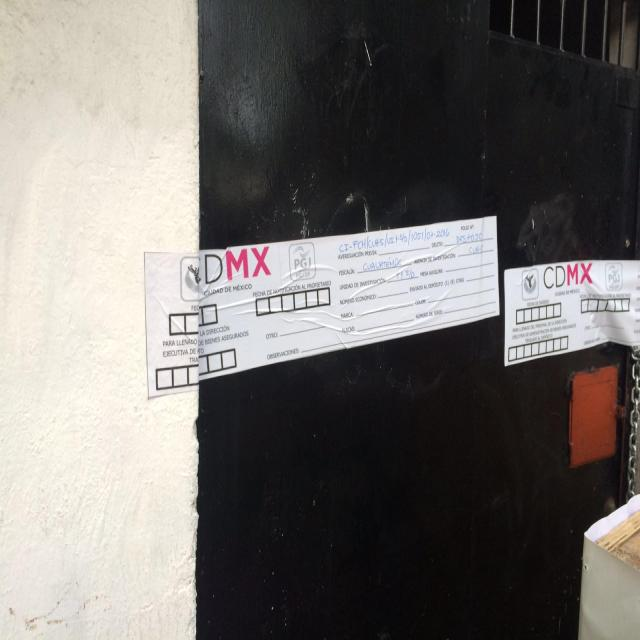stamps: (145, 217, 501, 402), (505, 263, 638, 368), (604, 263, 625, 294)
